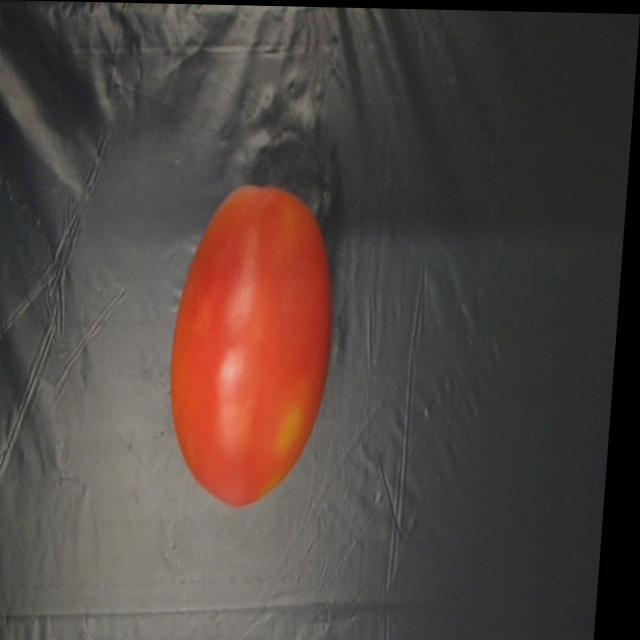sari: (166, 179, 360, 515)
